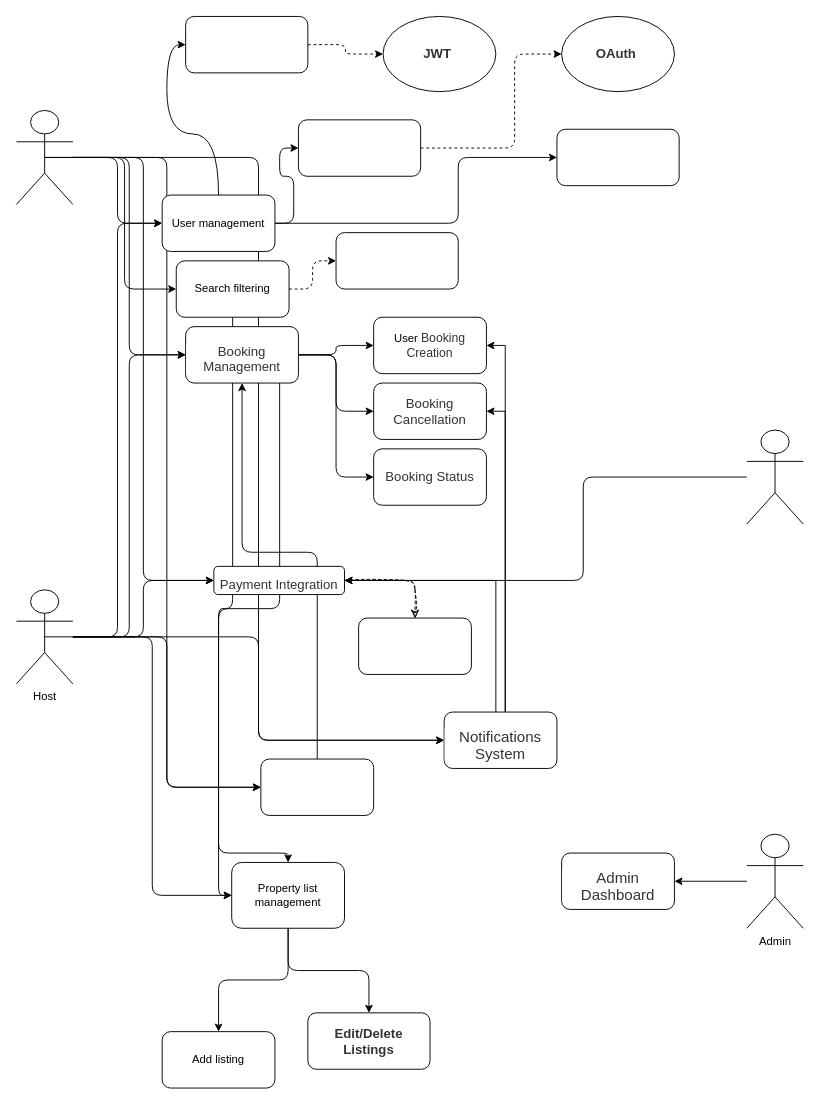
Image size: 838x1105. Some labels were removed from this diagram. The shapes that lost their labels are listed below. From the top down, each one's box as (x1, y1, x2, y2) in pixels, then its label:
(185, 16, 308, 73): sign up as guests or hosts
(16, 110, 73, 204): User
(298, 119, 421, 176): Login as guests or hosts
(556, 128, 679, 186): Profile Management
(335, 232, 458, 289): Pagination
(746, 429, 803, 524): Payment Gateway
(358, 617, 471, 674): support multiple currencies
(260, 758, 374, 815): Reviews and Ratings
